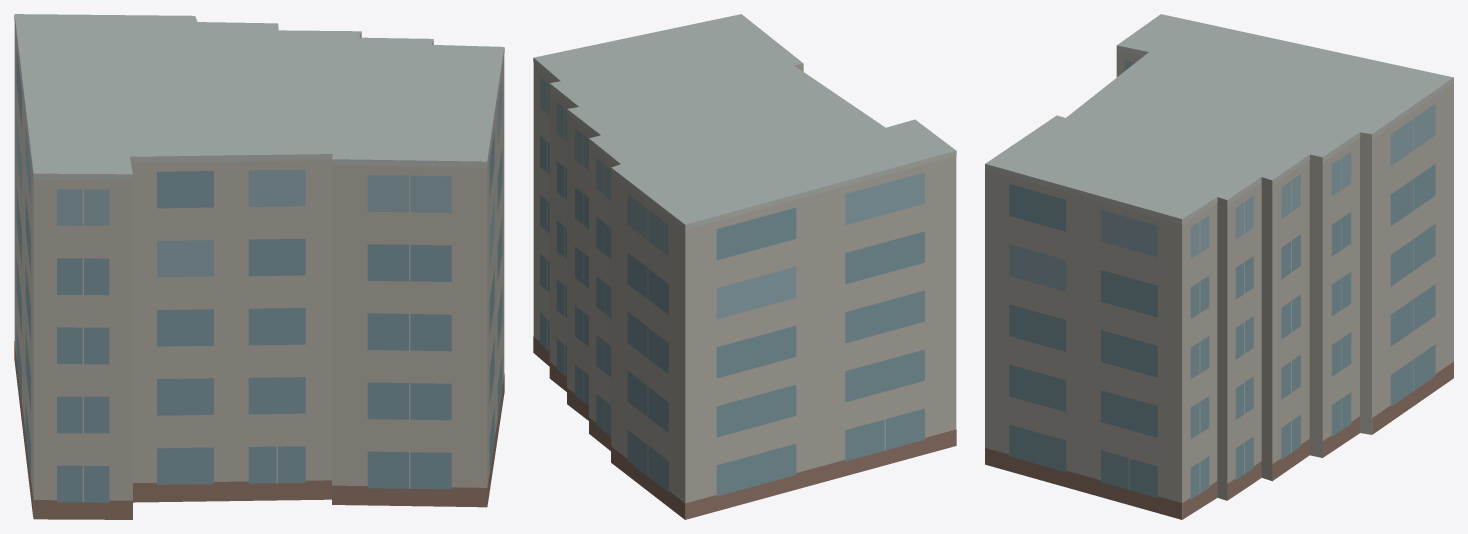
The model's file is survey-upis-32759355.glb.
3 renders of one model, left to right at view 1: azimuth 30°, elevation 25°; view 2: azimuth 150°, elevation 25°; view 3: azimuth 270°, elevation 25°, orthographic. The views are drawn at different scales.
Visible parts, largest first — view 1: survey-upis-32759355.tmp; view 2: survey-upis-32759355.tmp; view 3: survey-upis-32759355.tmp.
Boxes of the visible parts, <box> form: survey-upis-32759355.tmp: <box>14,14,504,519</box>; survey-upis-32759355.tmp: <box>533,14,956,519</box>; survey-upis-32759355.tmp: <box>985,14,1453,519</box>.
Bounding box in the file's own units: 20.04 × 13.7 × 19.36.
